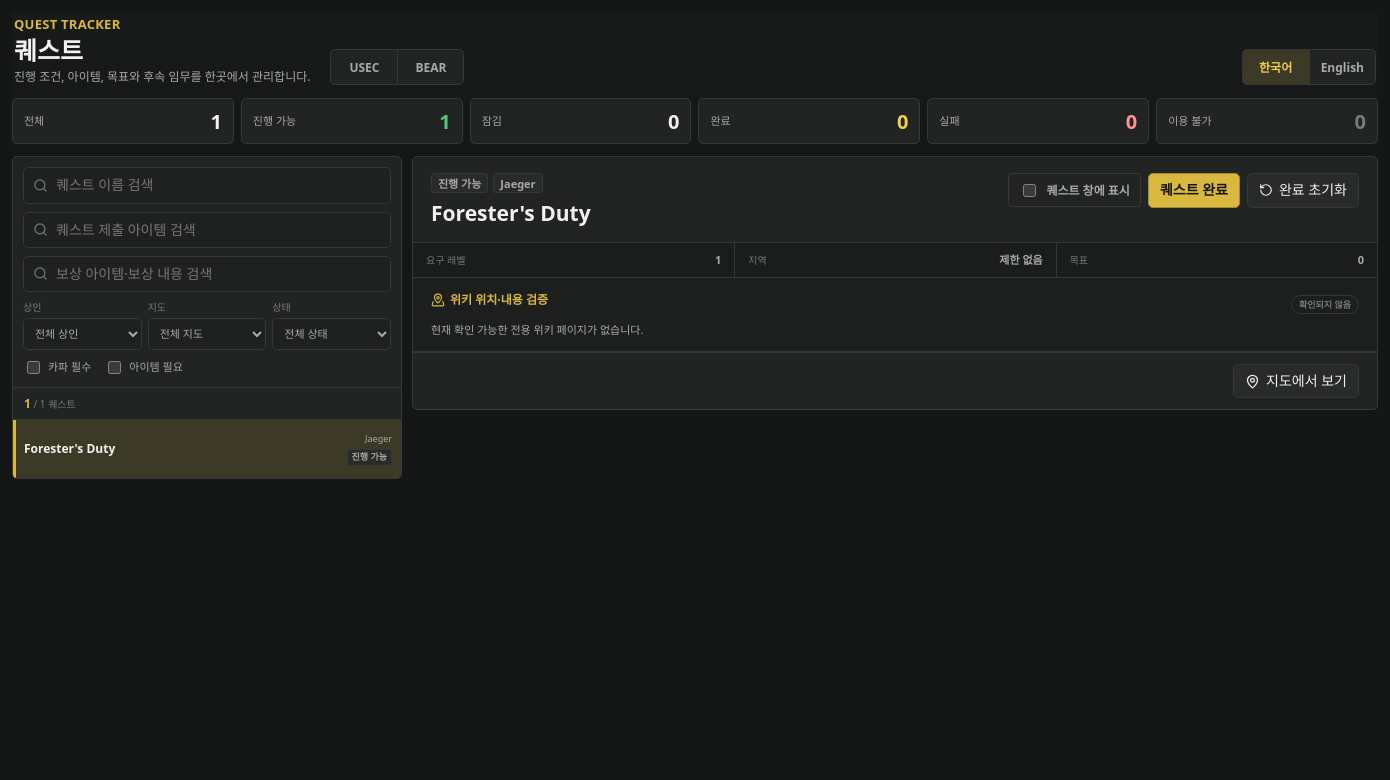
Test: QuestsPage › identifies the Kappa filter when an exact quest title is hidden
Type "Forester's Duty" into the search field named "퀘스트 검색".
click(207, 185); type("Forester's Duty")  # box [23,167,391,204]
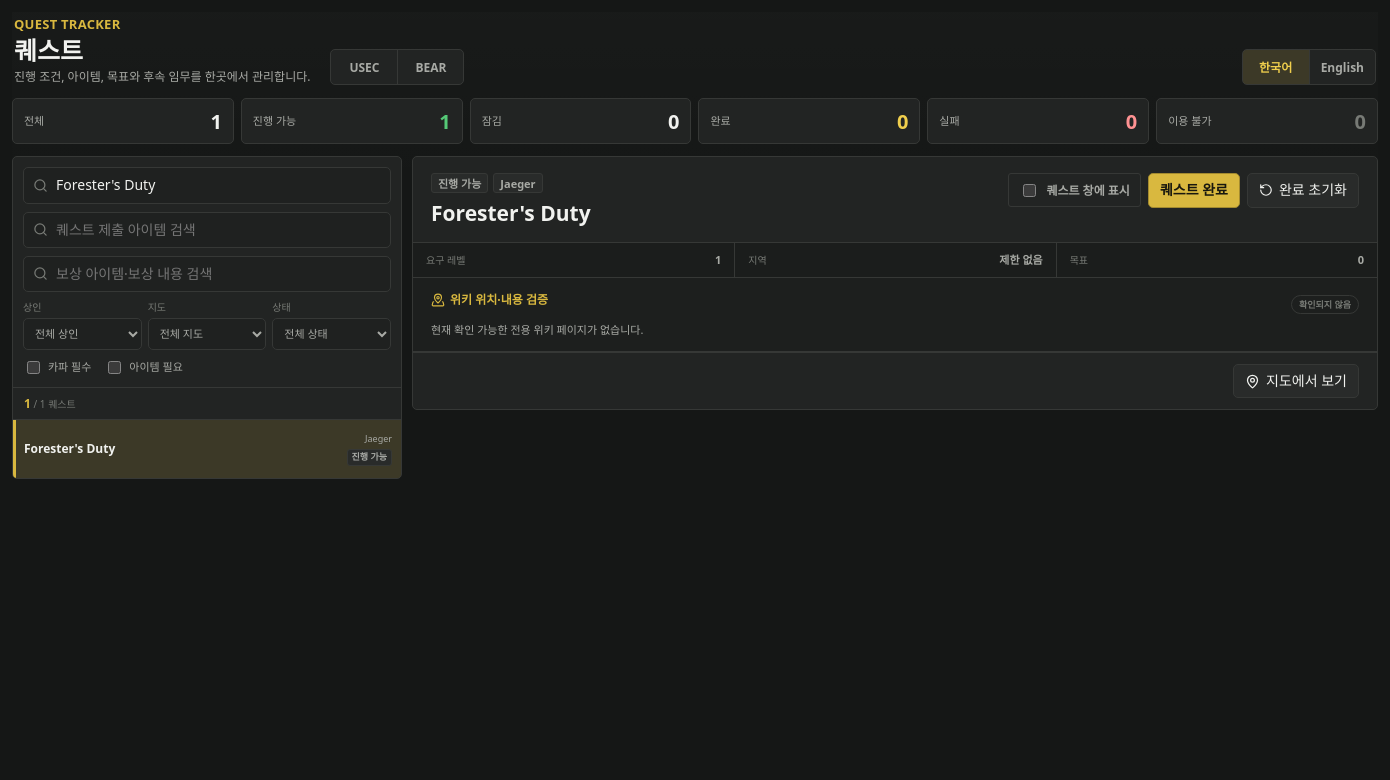
Click the checkbox labelled "카파 필수".
click(34, 367)  # box [27,361,40,374]
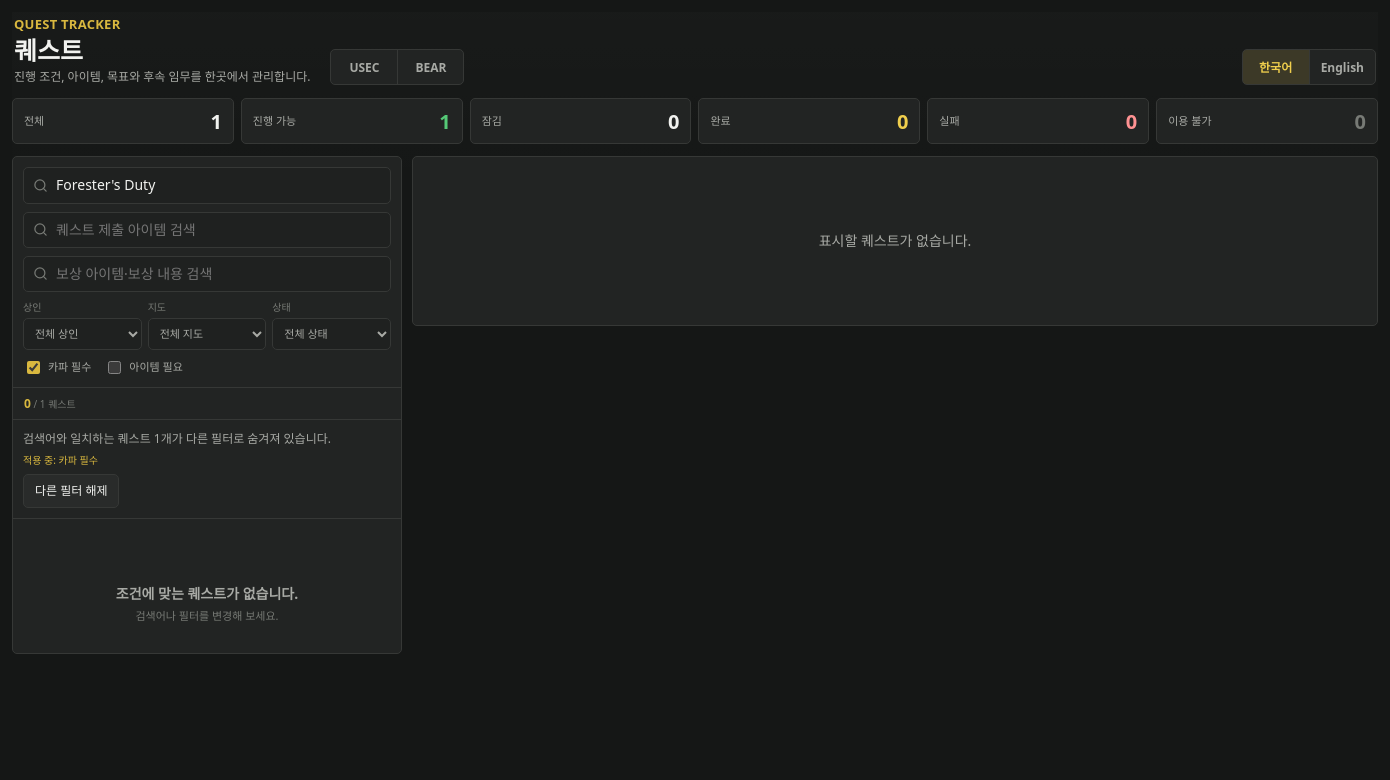
Expected: the checkbox labelled "카파 필수" is checked, [27,361,40,374]
Expected: the text "적용 중: 카파 필수" is shown, [23,453,98,467]
Click the button "다른 필터 해제".
click(71, 491)  # box [23,474,120,508]
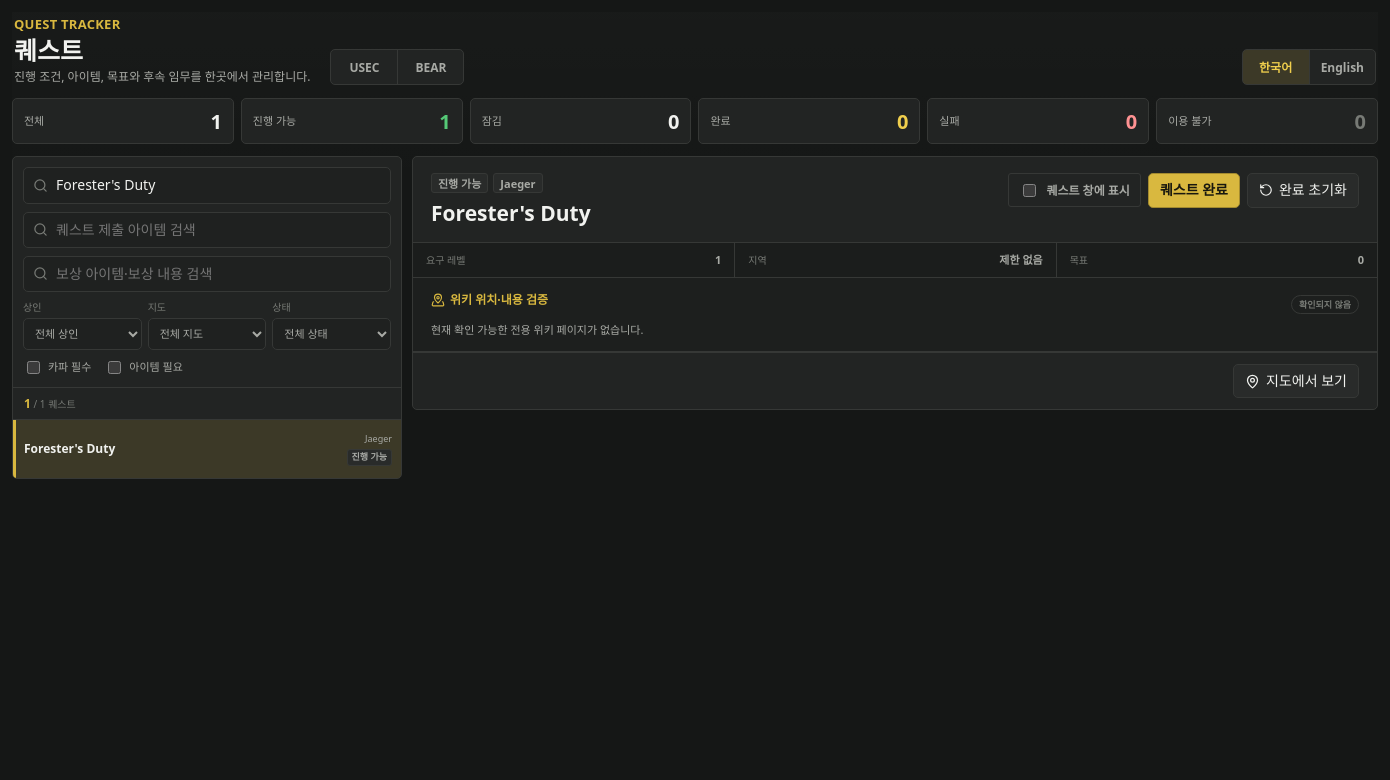
Expected: the checkbox labelled "카파 필수" is not checked, [27,361,40,374]
Expected: the button "Forester's Duty Jaeger 진행 가능" is shown, [13,420,401,478]
